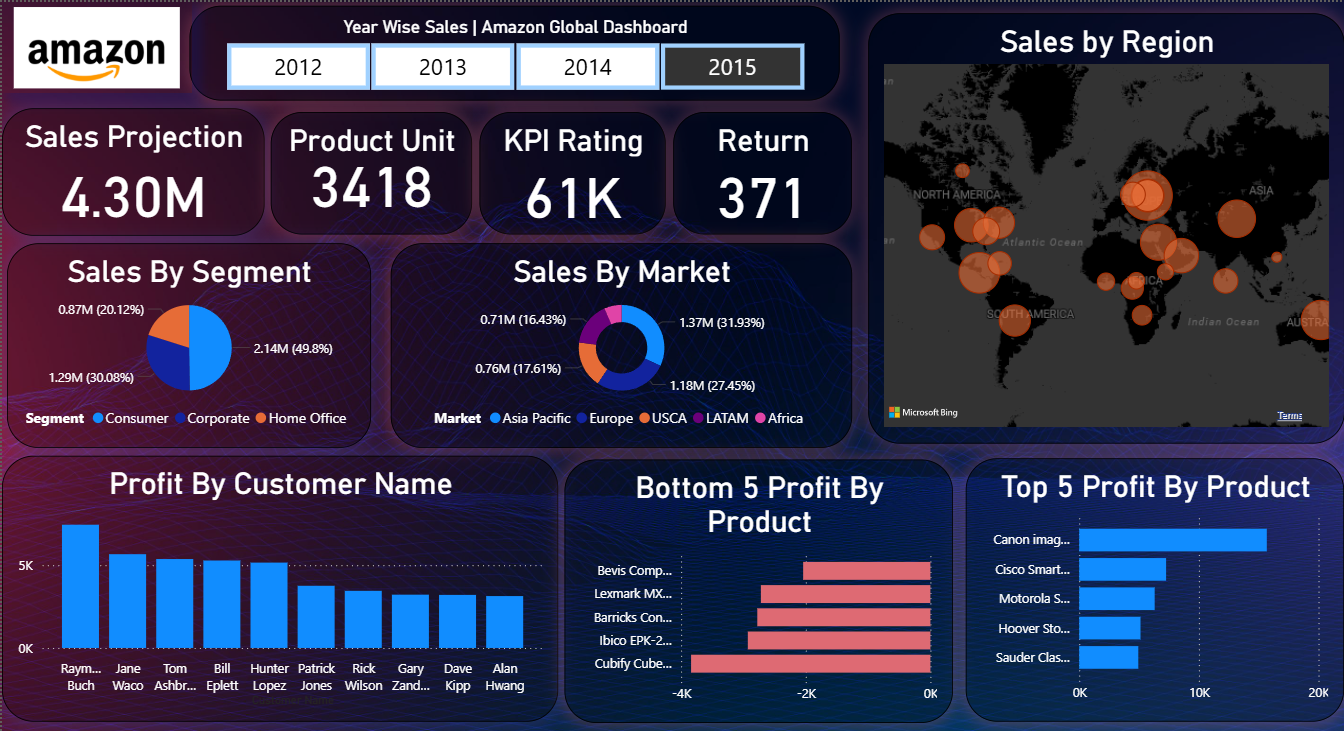

The dashboard page shown, as its layout file describes it:
{"tool":"powerbi","page":{"name":"Page 1","canvas":[1280,720],"ordinal":0},"visuals":[{"type":"card","title":"Sales Projection","fields":{"Values":["Orders.Sales"]},"box":[0,101.3,250.3,121.6],"z":0},{"type":"slicer","title":"Year Wise Sales | Amazon Global Dashboard","fields":{"Values":["Orders.Year"]},"box":[178.8,3.6,619.9,90.6],"z":1000},{"type":"image","box":[0,0,181,87],"z":2000},{"type":"card","title":"Product Unit","fields":{"Values":["Orders.Product Name"]},"box":[256.3,104.9,191.9,116.8],"z":3000},{"type":"card","title":"KPI Rating","fields":{"Values":["Orders.Quantity"]},"box":[455.4,104.9,177.6,116.8],"z":4000},{"type":"card","title":"Return","fields":{"Values":["Orders.Ship Date"]},"box":[640.1,104.9,170.5,116.8],"z":5000},{"type":"pieChart","title":"Sales By Segment","fields":{"Category":["Orders.Segment"],"Y":["Orders.Sales"]},"box":[4.8,230.1,346.9,195.5],"z":6000},{"type":"donutChart","title":"Sales By Market","fields":{"Y":["Orders.Sales"],"Category":["Orders.Market"]},"box":[370.7,230.1,439.9,195.5],"z":7000},{"type":"columnChart","title":"Profit By Customer Name","fields":{"Category":["Orders.Customer Name"],"Y":["Orders.Profit"]},"box":[0,432.7,530.5,253.9],"z":8000},{"type":"clusteredBarChart","title":"Bottom 5 Profit By Product","fields":{"Y":["Orders.Profit"],"Category":["Orders.Product Name"]},"box":[536.4,436.3,370.7,251.5],"z":9000},{"type":"clusteredBarChart","title":"Top 5 Profit By Product","fields":{"Y":["Orders.Profit"],"Category":["Orders.Product Name"]},"box":[918.8,435.1,361.2,251.5],"z":10000},{"type":"map","title":" Sales by Region","fields":{"Category":["Orders.Region"],"Size":["Orders.Sales"]},"box":[826.1,10.7,454.2,410.1],"z":11000}]}

Visuals, with their boxes on the page's 1280x720 design canvas (x1, y1, x2, y2). These are canvas units, not pixel positions in the 1344x731 screenshot, which may show the page scaled, cropped or inside an application window:
"Sales Projection" card: 0/101/250/223
"Year Wise Sales | Amazon Global Dashboard" slicer: 179/4/799/94
image: 0/0/181/87
"Product Unit" card: 256/105/448/222
"KPI Rating" card: 455/105/633/222
"Return" card: 640/105/811/222
"Sales By Segment" pieChart: 5/230/352/426
"Sales By Market" donutChart: 371/230/811/426
"Profit By Customer Name" columnChart: 0/433/530/687
"Bottom 5 Profit By Product" clusteredBarChart: 536/436/907/688
"Top 5 Profit By Product" clusteredBarChart: 919/435/1280/687
" Sales by Region" map: 826/11/1280/421
